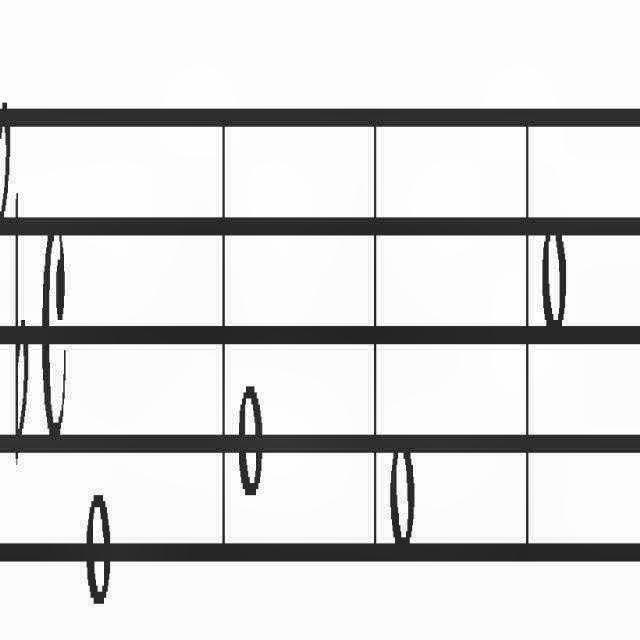Bemol: (16, 175, 28, 481), (0, 0, 10, 242)
Full-note: (540, 201, 568, 337), (85, 483, 112, 623), (238, 369, 264, 511), (388, 429, 416, 547)
